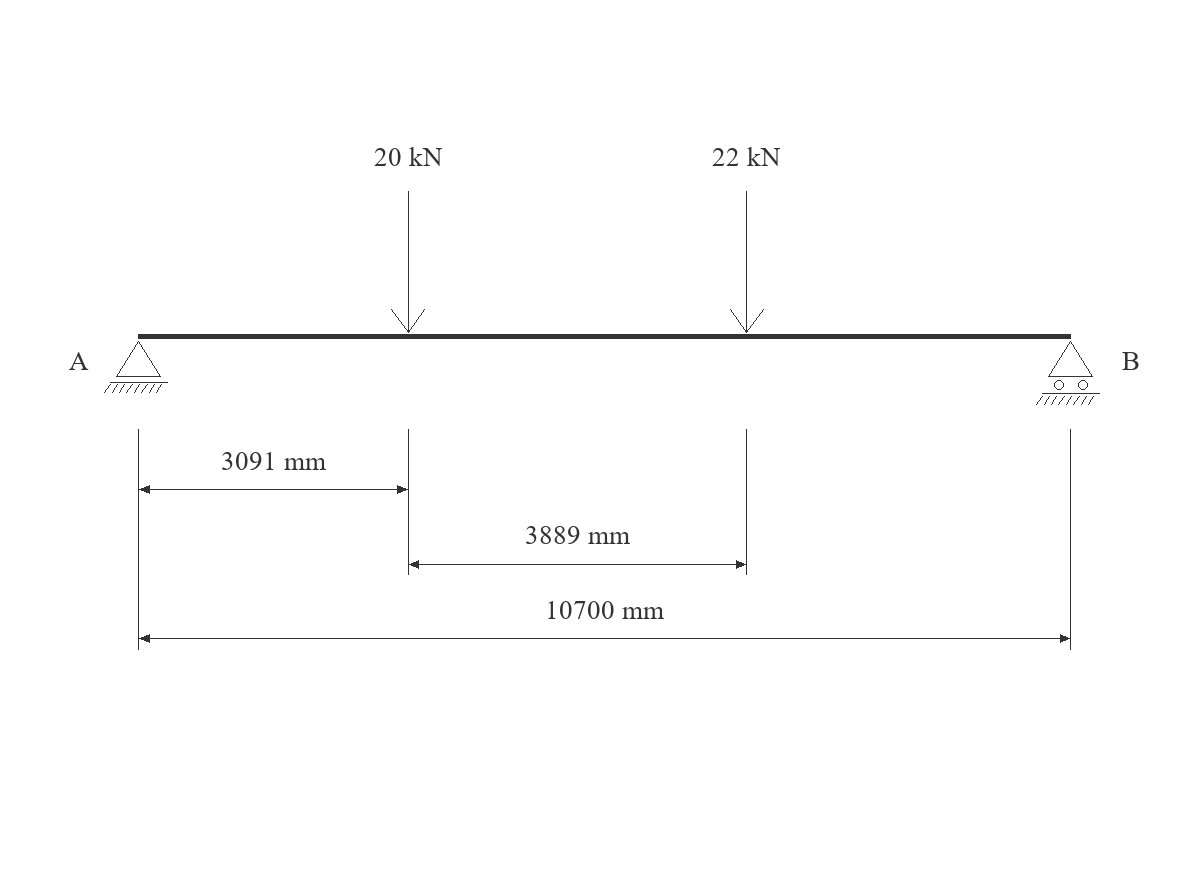pin_support: (104, 341, 168, 393)
point_load: (391, 191, 425, 333), (730, 191, 764, 333)
roller_support: (1036, 341, 1100, 405)
